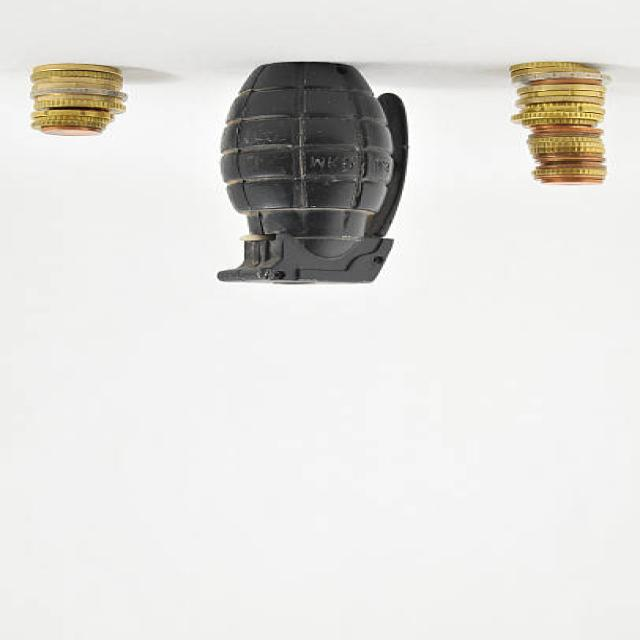grenade: (212, 58, 417, 293)
